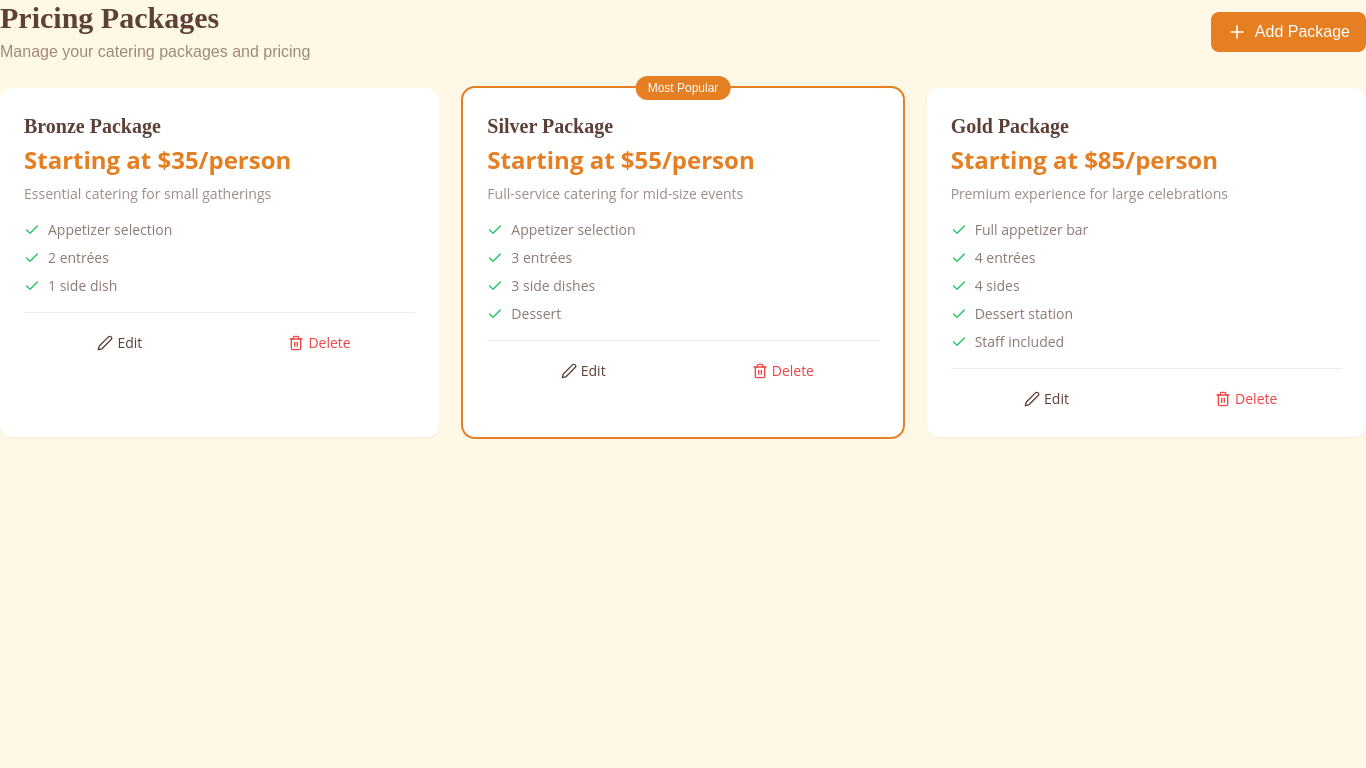
Test: Admin Pricing Management › opens edit modal with pre-filled data
Expected: the heading "Bronze Package" is shown, [24,115,161,137]
Click the button "Edit" below "1 side dish": coordinates (120, 343) [24,329,216,357]
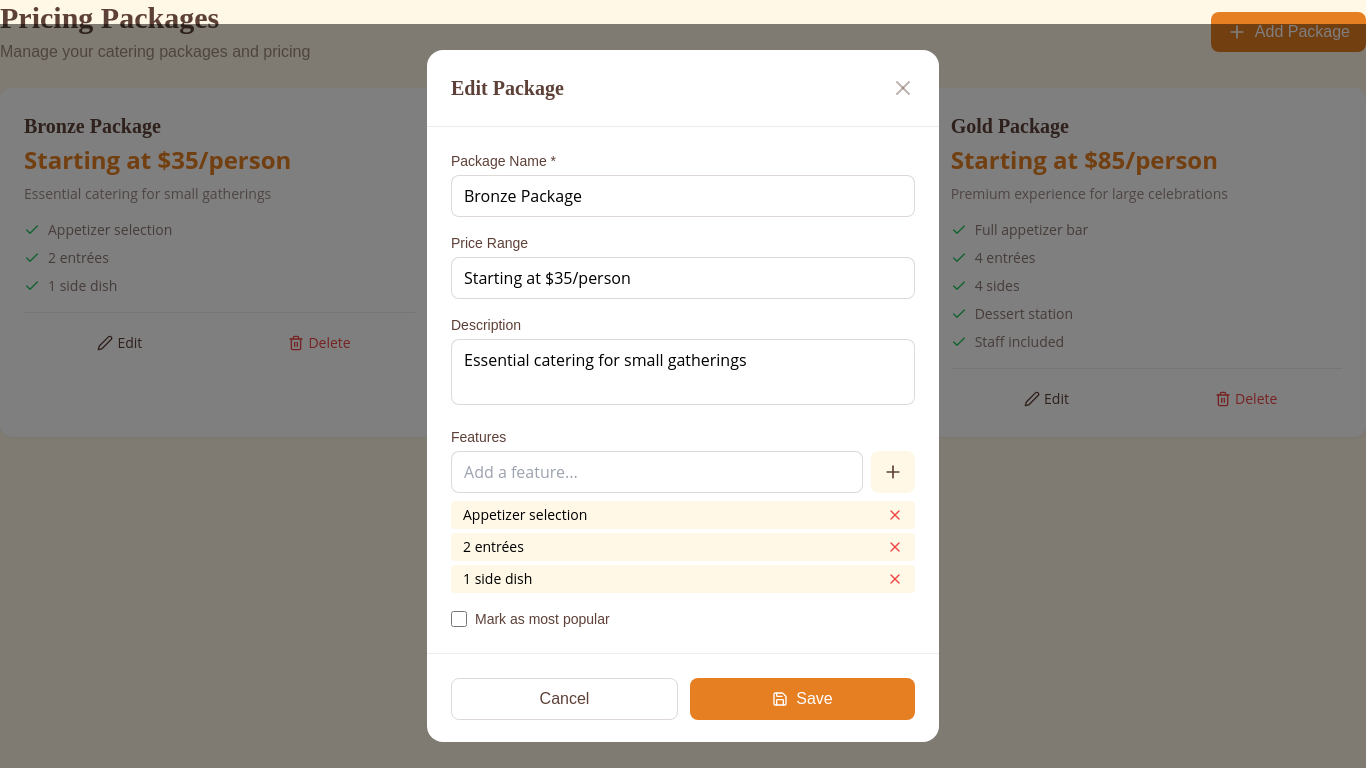
Result: the heading "Edit Package" is shown at [451,74,564,102]
Result: the field showing "Bronze Package" below "Package Name *" is shown at [451,175,915,217]
Result: the field showing "Starting at $35/person" below "Price Range" is shown at [451,257,915,299]
